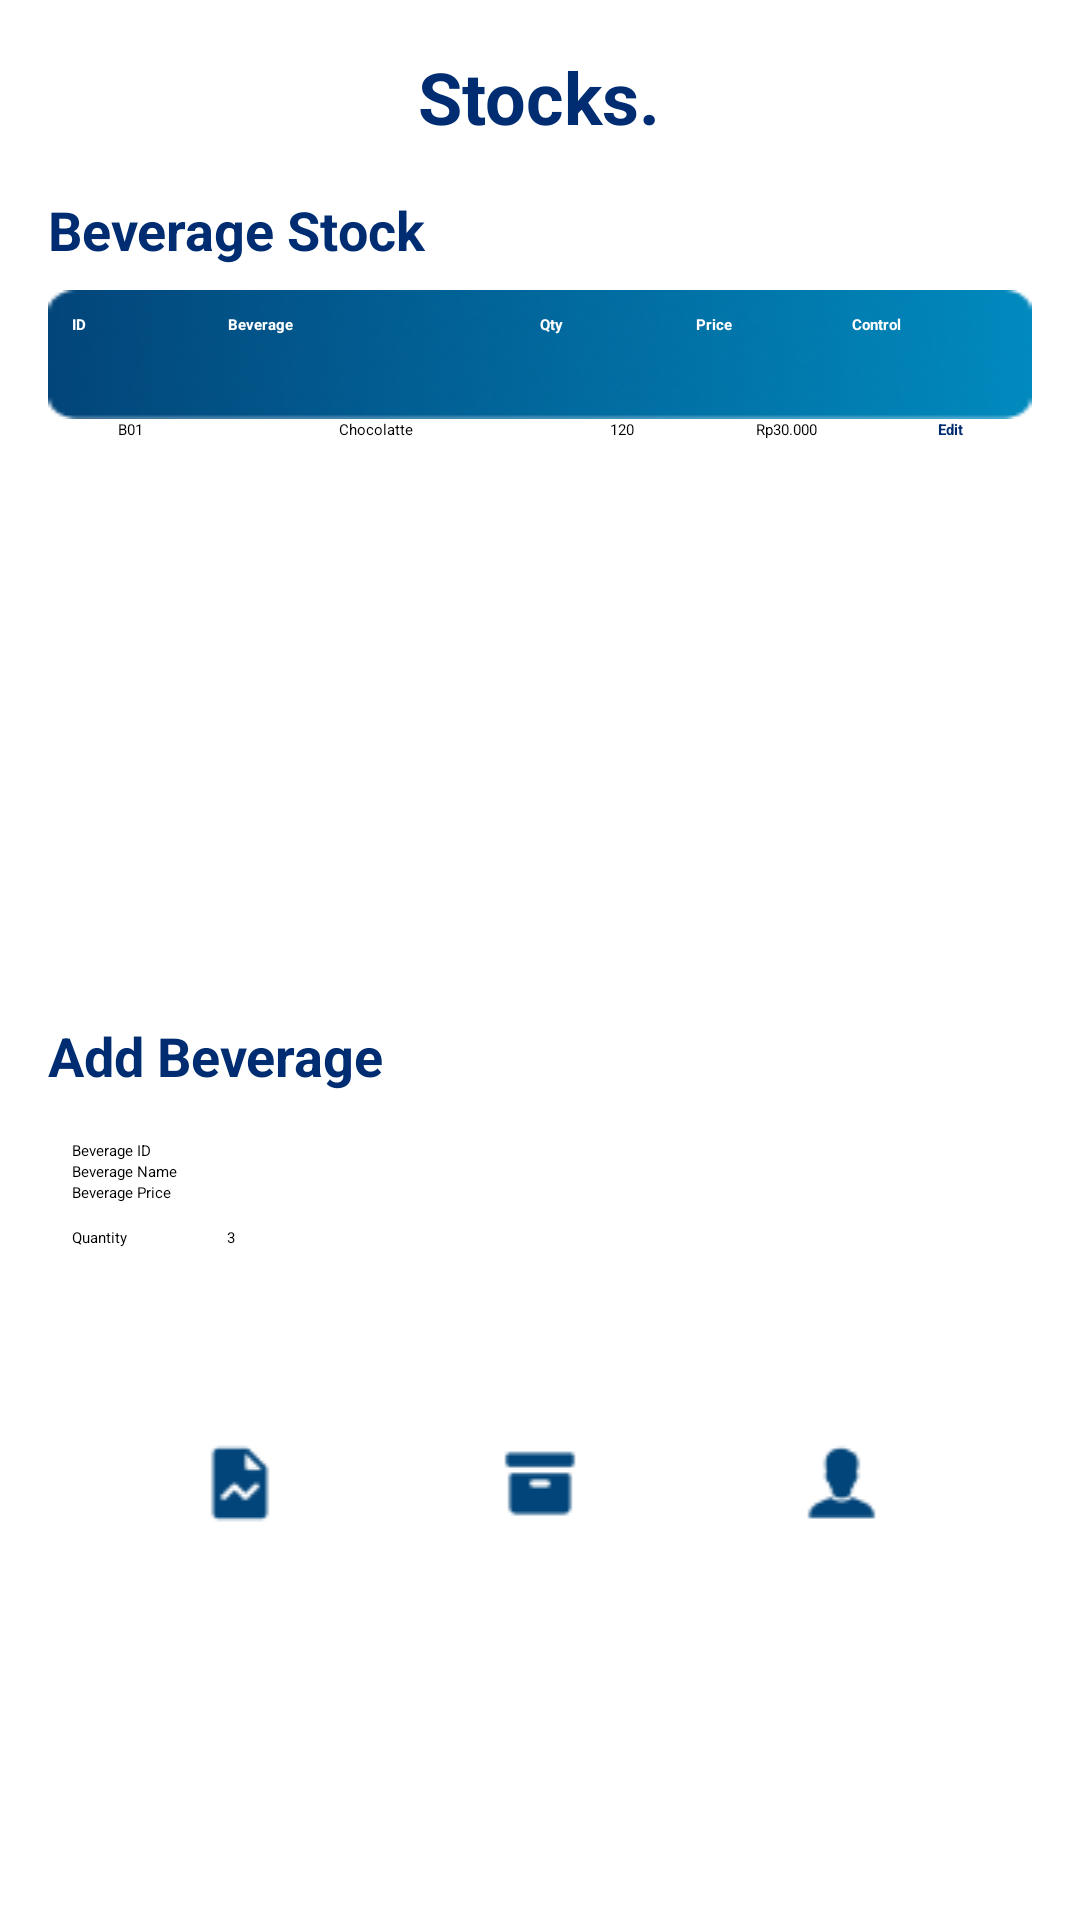

Where icons sit on this 1080px x 1920px app screen, as (x1, y1, x2, y2):
chart: (211, 1446, 269, 1521)
profile: (807, 1446, 876, 1519)
stock: (504, 1451, 576, 1516)
